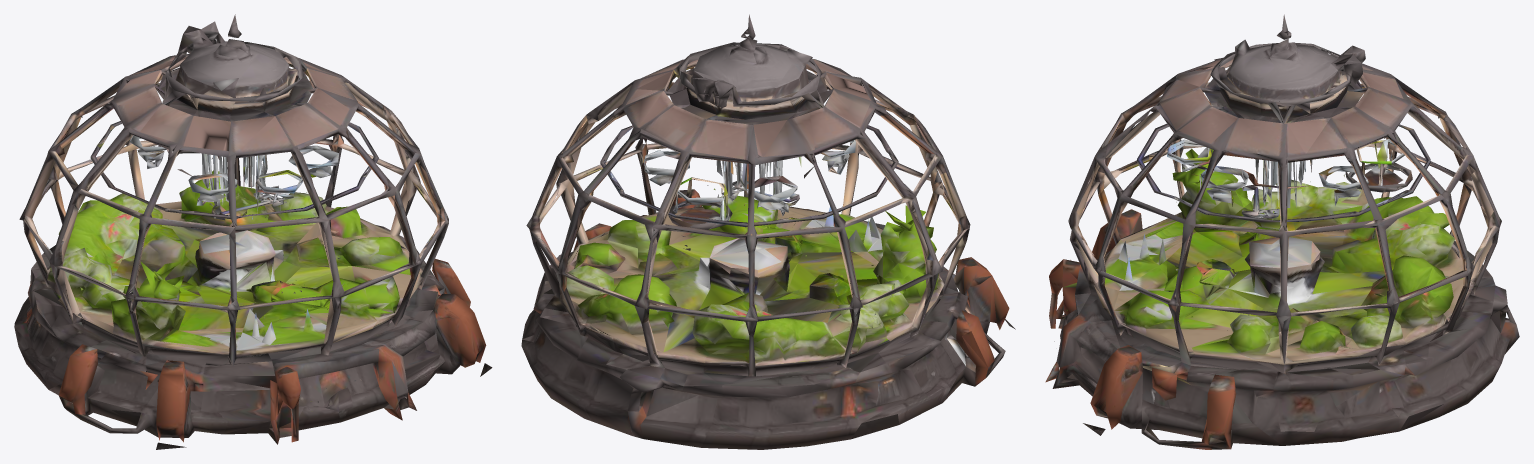
File: invernadero.fbx
3 views of the same model, side by side, from view 1: azimuth 30°, elevation 25°; view 2: azimuth 150°, elevation 25°; view 3: azimuth 270°, elevation 25° (orthographic). The views are drawn at different scales.
Parts seen in each view (by area): view 1: tripo_node_d94e3773; view 2: tripo_node_d94e3773; view 3: tripo_node_d94e3773.
Boxes of the visible parts, x1,y1,x2,y2 form: tripo_node_d94e3773: (14, 14, 492, 449); tripo_node_d94e3773: (521, 14, 1015, 449); tripo_node_d94e3773: (1045, 14, 1519, 449).
Size of the model in its own units: 0.9977 by 0.7846 by 0.9842.
Materials: 1 (1 with a texture image).
